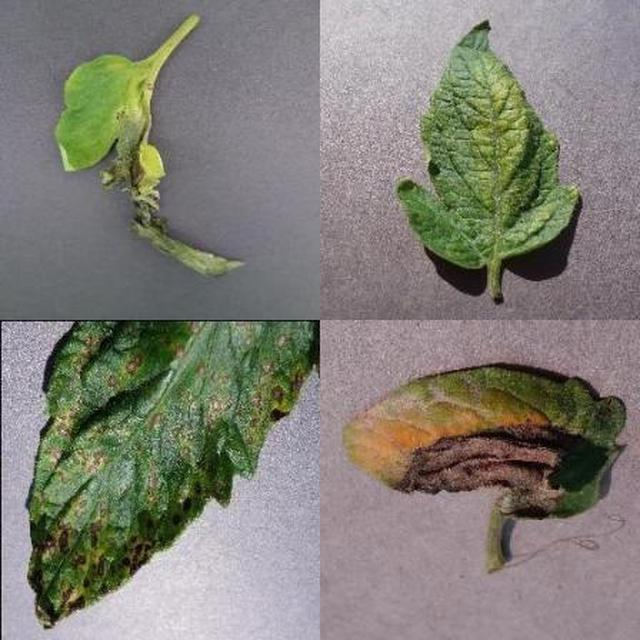Late Blight Leaf: (215, 206, 640, 640)
